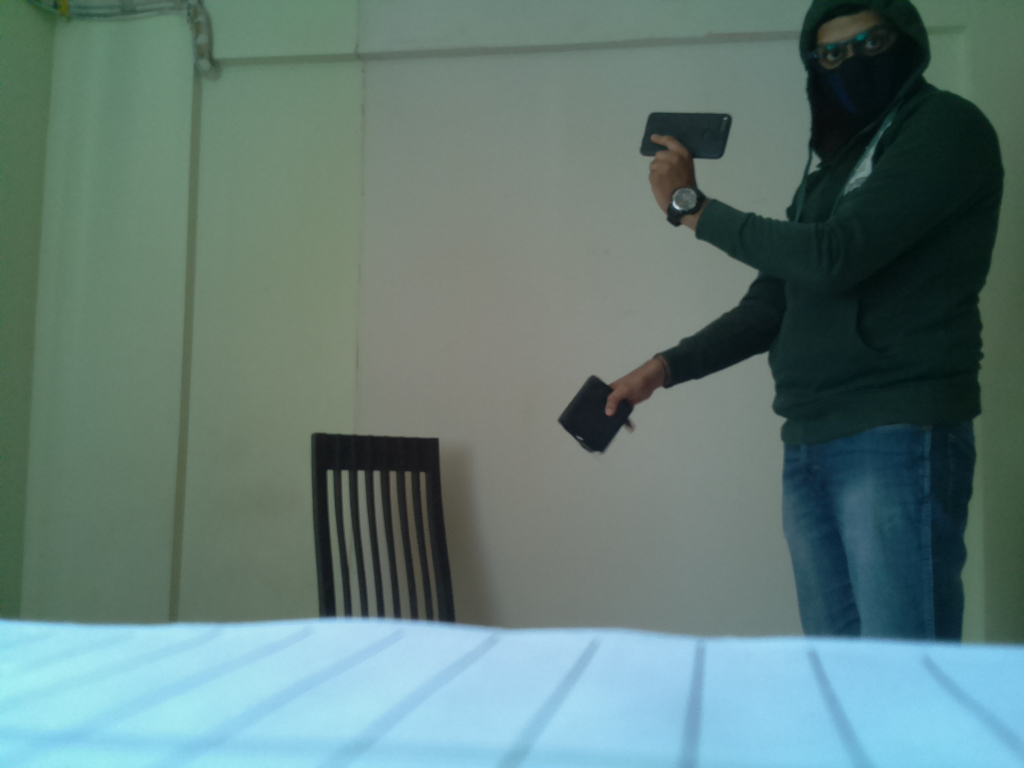none2: (556, 374, 634, 454), (635, 107, 735, 161), (664, 177, 708, 226)
